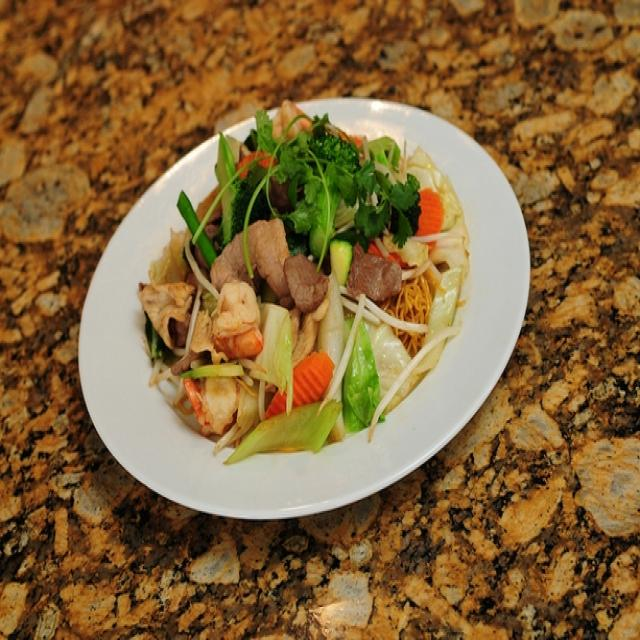蔬菜料理: (94, 79, 529, 492)
